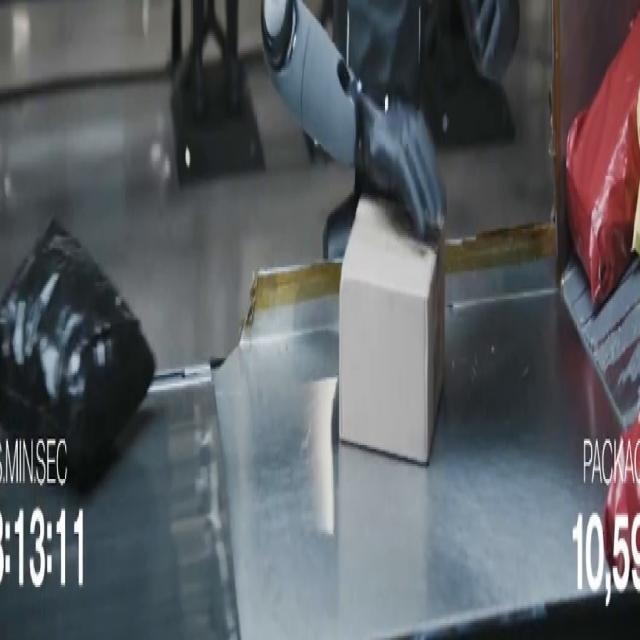package: (0, 223, 155, 478), (339, 198, 444, 464), (566, 17, 639, 305), (333, 0, 423, 105), (603, 418, 639, 582), (633, 181, 639, 254)
